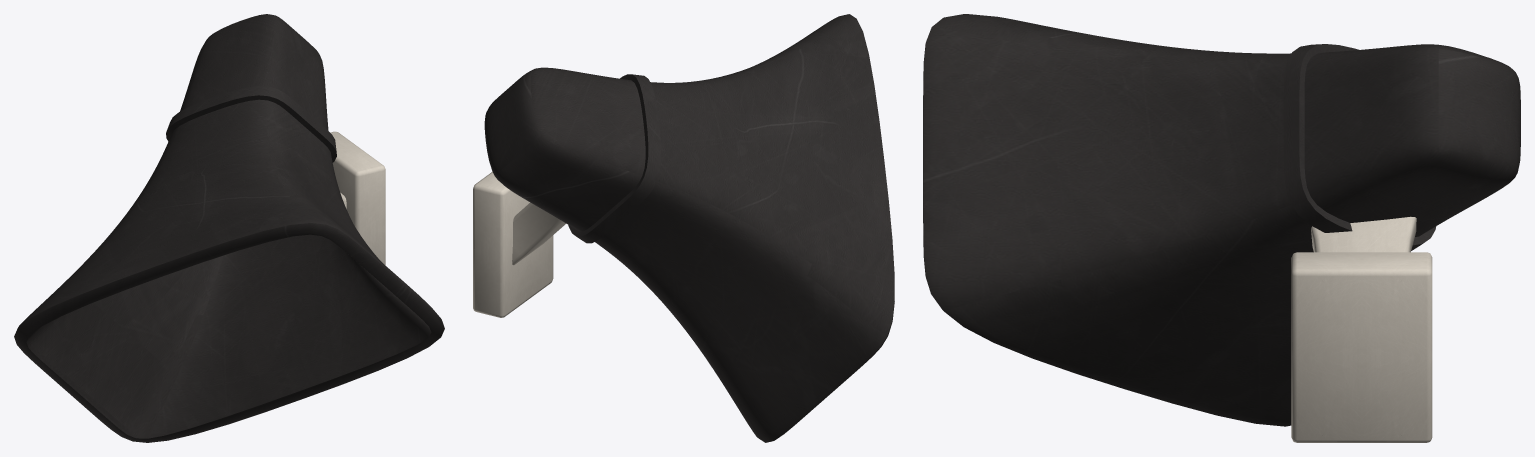
Rendered from Speaker Left.fbx.
3 views of the same model, side by side, from view 1: azimuth 30°, elevation 25°; view 2: azimuth 150°, elevation 25°; view 3: azimuth 270°, elevation 25° (orthographic). The views are drawn at different scales.
Parts seen in each view (by area): view 1: SpeakerOuter, Speaker Mount; view 2: SpeakerOuter, Speaker Mount, Connector; view 3: SpeakerOuter, Speaker Mount, Connector.
Boxes of the visible parts, x1=… form: SpeakerOuter: x1=14, y1=14, x2=444, y2=442; Speaker Mount: x1=330, y1=131, x2=385, y2=265; SpeakerOuter: x1=484, y1=14, x2=894, y2=442; Speaker Mount: x1=473, y1=172, x2=553, y2=317; Connector: x1=512, y1=202, x2=565, y2=265; SpeakerOuter: x1=923, y1=14, x2=1520, y2=426; Speaker Mount: x1=1291, y1=252, x2=1432, y2=442; Connector: x1=1311, y1=216, x2=1416, y2=252.
Size of the model in its own units: 3.02 by 3.07 by 2.78.
